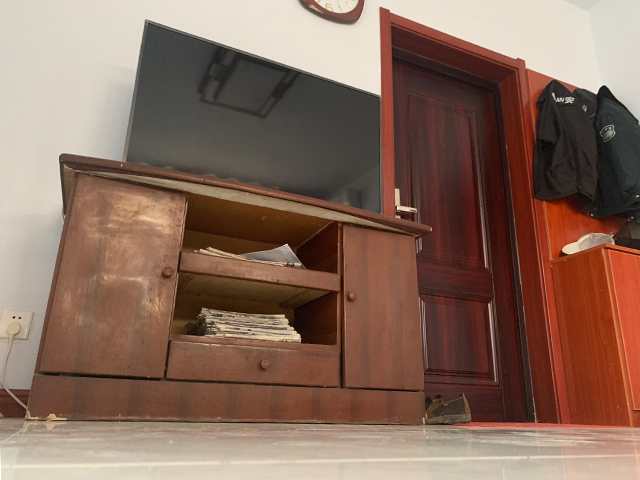cabinet: (24, 152, 433, 426), (549, 242, 640, 428)
carpet: (452, 421, 632, 430)
wire: (3, 320, 29, 414)
